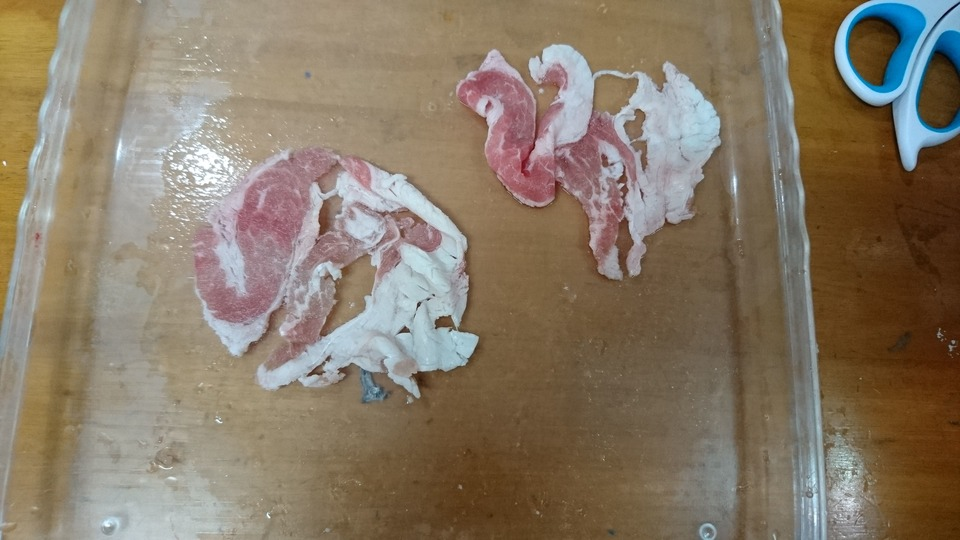restructured meat: (194, 142, 478, 402), (452, 42, 723, 282)
